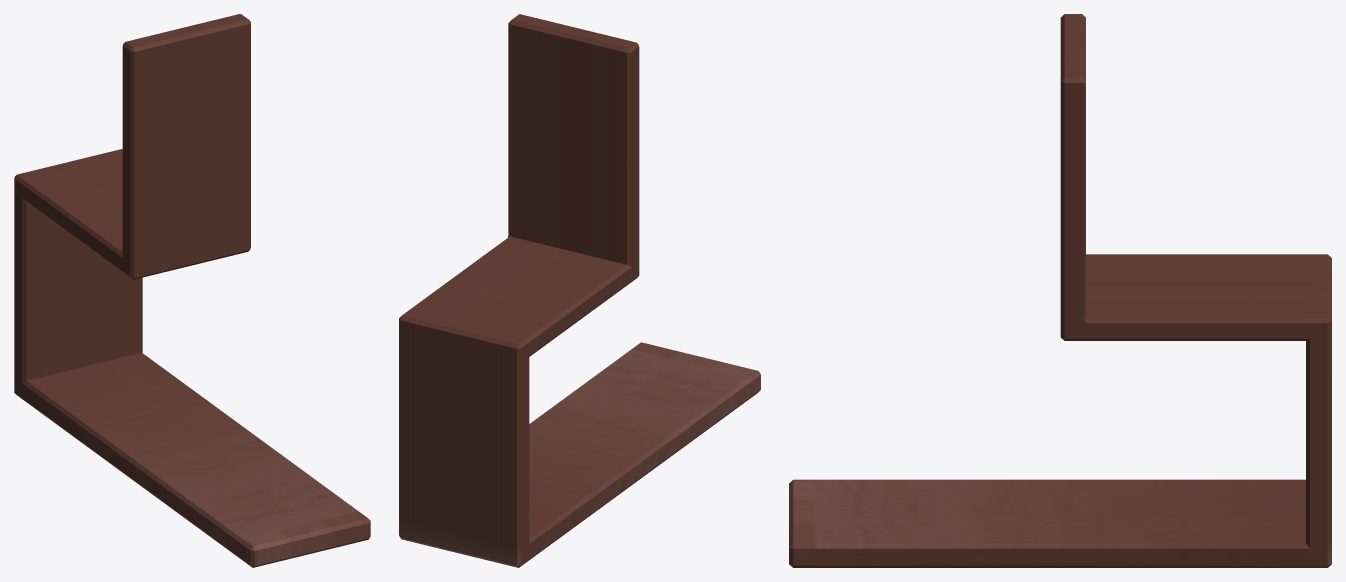
Rendered from shelves.fbx.
3 renders of one model, left to right at view 1: azimuth 30°, elevation 25°; view 2: azimuth 150°, elevation 25°; view 3: azimuth 270°, elevation 25°, orthographic. The views are drawn at different scales.
Parts seen in each view (by area): view 1: shelves_mesh; view 2: shelves_mesh; view 3: shelves_mesh.
Part boxes in pixels (<box>): shelves_mesh: <box>14,14,370,567</box>; shelves_mesh: <box>399,14,760,567</box>; shelves_mesh: <box>789,14,1331,567</box>.
Bounding box in the file's own units: 2.44 × 8.37 × 8.4.
1 material, 1 textured.
